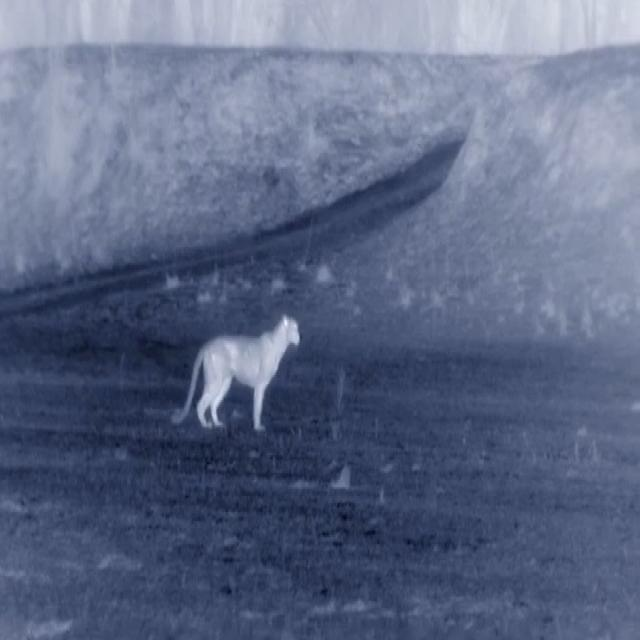animal: (171, 259, 353, 548)
